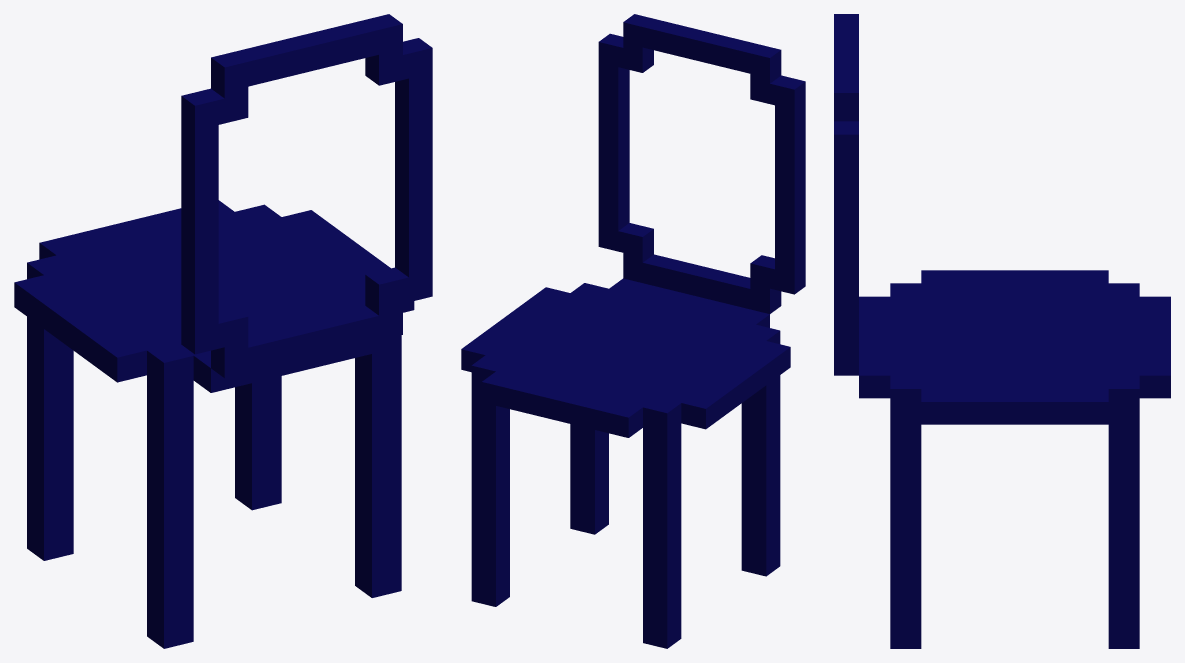
The model's file is obj1blu.glb.
The picture shows the model from 3 angles, left to right: view 1: azimuth 30°, elevation 25°; view 2: azimuth 150°, elevation 25°; view 3: azimuth 270°, elevation 25°; orthographic projection. The views are drawn at different scales.
Parts seen in each view (by area): view 1: pixelChair; view 2: pixelChair; view 3: pixelChair.
Boxes of the visible parts, <box> form: pixelChair: <box>14,14,432,648</box>; pixelChair: <box>461,14,805,648</box>; pixelChair: <box>834,14,1170,648</box>.
Size of the model in its own units: 5 by 9.6 by 5.4.
